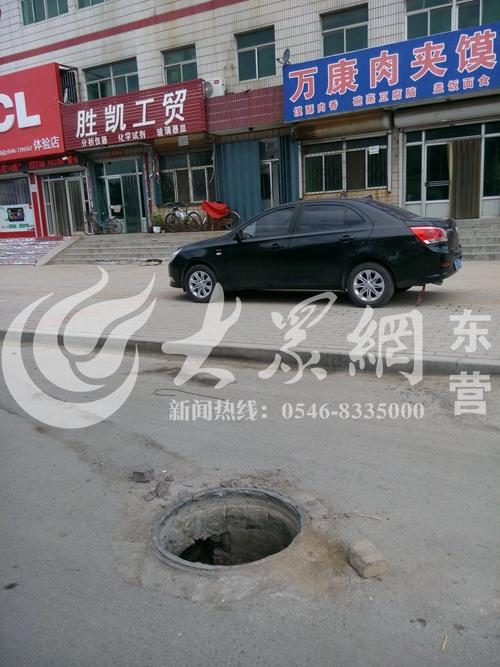wellcover: (117, 487, 356, 579)
